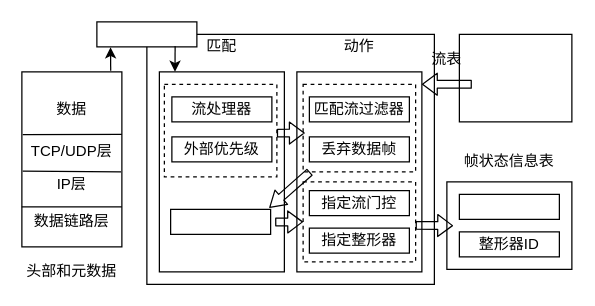
This 595x306 diagram has some shape labels left out. The shapes that lost their labels are listed below. From the top down, each one's centre as x and y in pixels, then its label:
At point 146,34: "关键字".
At point 515,77: "控制层面".
At point 220,221: "流过滤器ID".
At point 508,206: "流门控ID".
